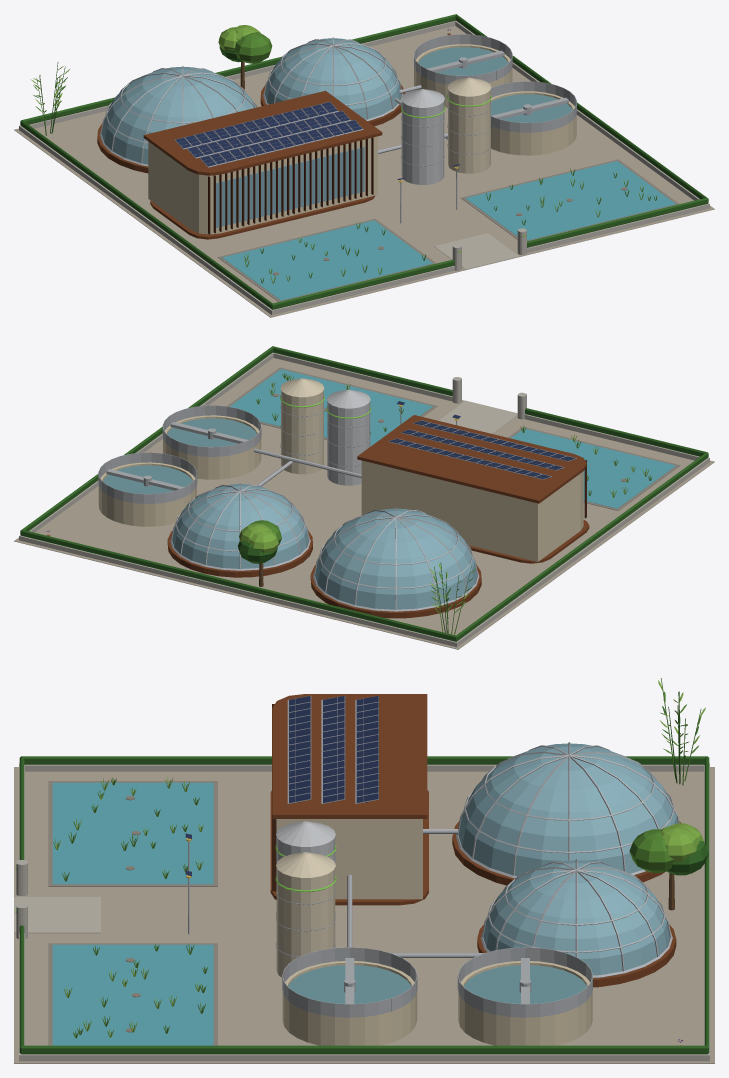
Rendered from water_works.glb.
3 views of the same model, one above another, from view 1: azimuth 30°, elevation 25°; view 2: azimuth 150°, elevation 25°; view 3: azimuth 270°, elevation 25° (orthographic). The views are drawn at different scales.
Visible parts, largest first — view 1: body; view 2: body; view 3: body.
Part boxes in pixels (x1=…): body: x1=14, y1=14, x2=714, y2=317; body: x1=14, y1=346, x2=714, y2=649; body: x1=14, y1=678, x2=714, y2=1063.
Size of the model in its own units: 47.9 by 9.12 by 47.9.
